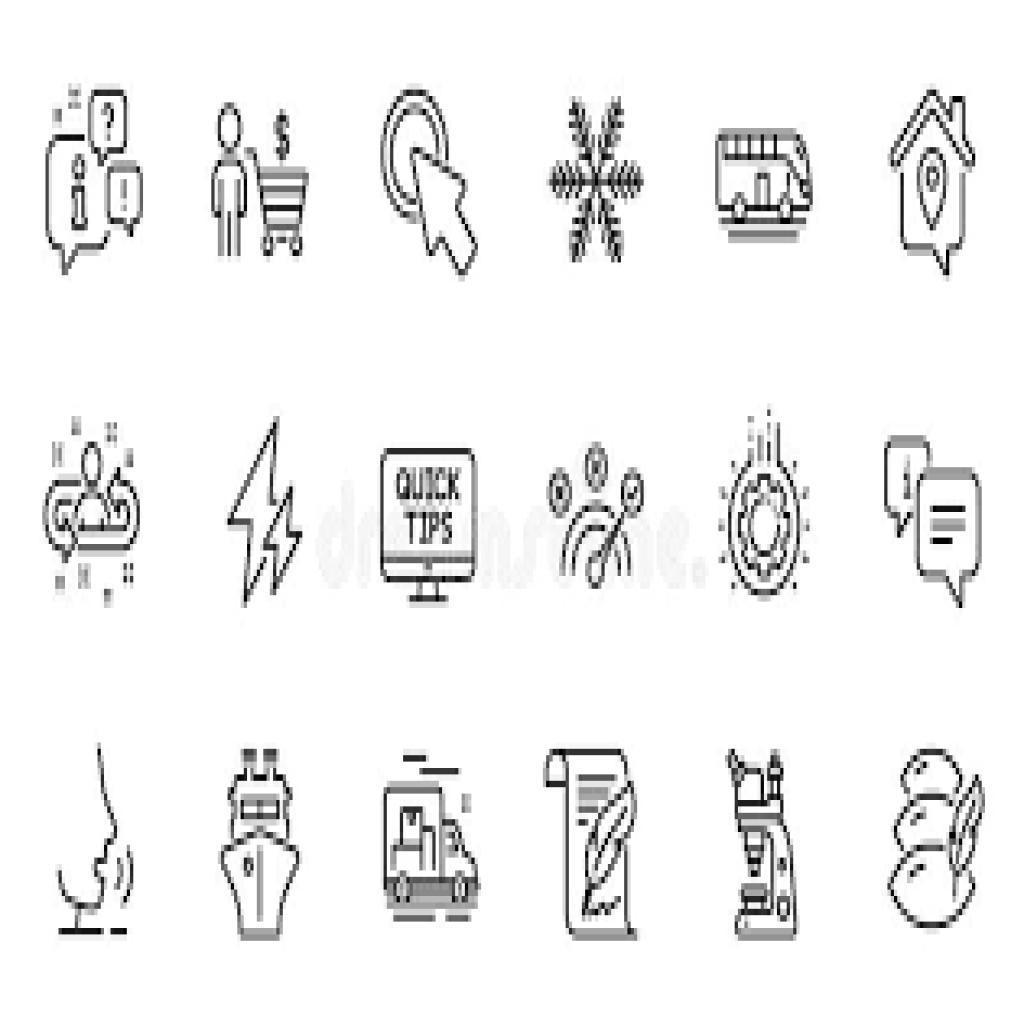icon: (868, 411, 995, 623), (30, 70, 154, 287), (537, 738, 649, 956), (36, 749, 149, 962), (37, 400, 149, 612), (368, 741, 486, 933), (879, 730, 986, 938), (374, 84, 484, 279), (875, 76, 976, 286), (210, 412, 309, 611), (210, 747, 308, 944), (712, 415, 813, 603), (203, 95, 315, 263), (717, 738, 801, 956), (377, 439, 482, 606), (550, 92, 645, 274), (707, 107, 819, 256), (541, 433, 646, 591)
